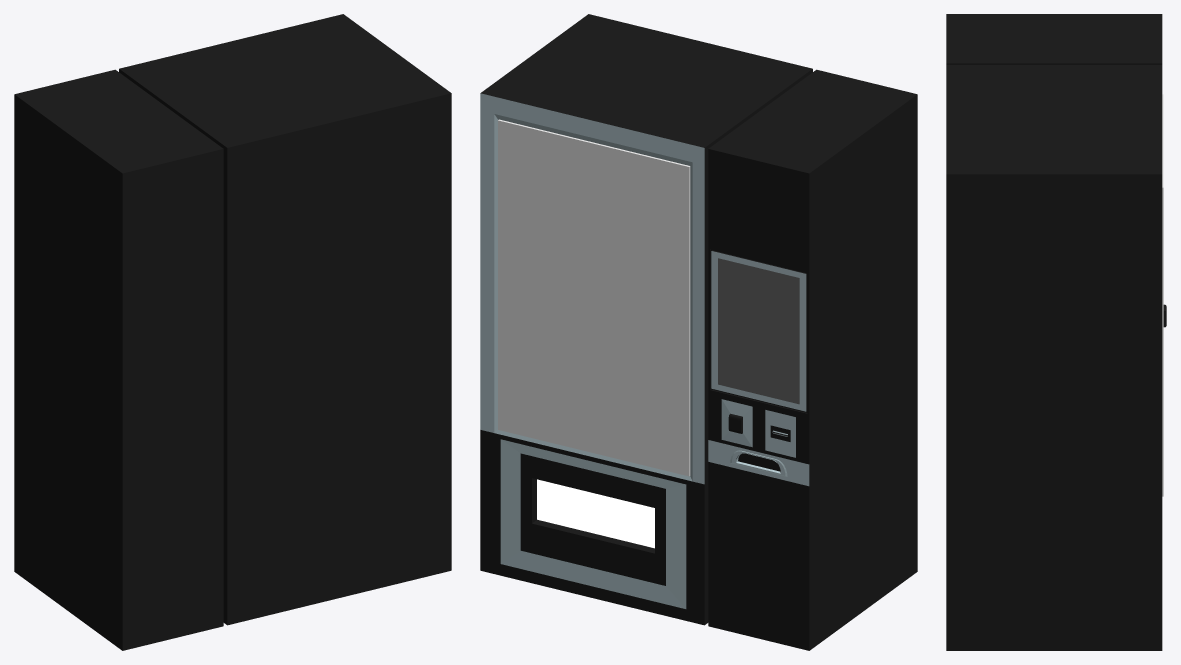
File: distributeur.glb
3 views of the same model, side by side, from view 1: azimuth 30°, elevation 25°; view 2: azimuth 150°, elevation 25°; view 3: azimuth 270°, elevation 25° (orthographic).
Visible parts, largest first — view 1: Distributeur, Paiement; view 2: Paiement, Distributeur, Vitre; view 3: Distributeur, Paiement, Vitre.
Part boxes in pixels (x1=…): Distributeur: x1=119, y1=14, x2=451, y2=625; Paiement: x1=14, y1=69, x2=223, y2=650; Paiement: x1=708, y1=69, x2=917, y2=650; Distributeur: x1=480, y1=14, x2=812, y2=625; Vitre: x1=498, y1=119, x2=690, y2=476; Distributeur: x1=946, y1=65, x2=1162, y2=650; Paiement: x1=946, y1=14, x2=1166, y2=327; Vitre: x1=1162, y1=94, x2=1163, y2=496.
Size of what is drawn, in the model's own units: 4.44 by 6.16 by 2.58.
